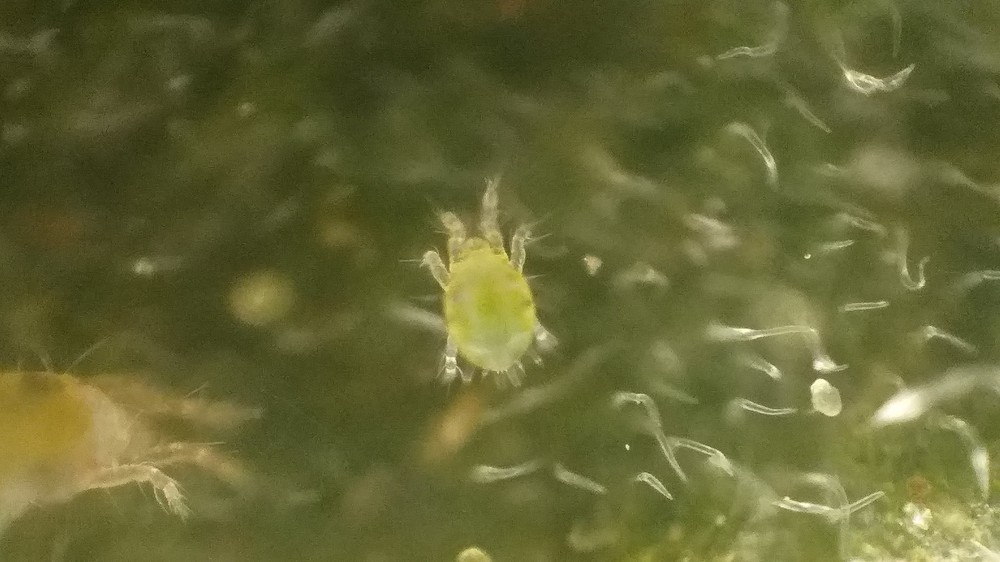Aracnido Rojo: (2, 307, 275, 541), (395, 188, 589, 401)
